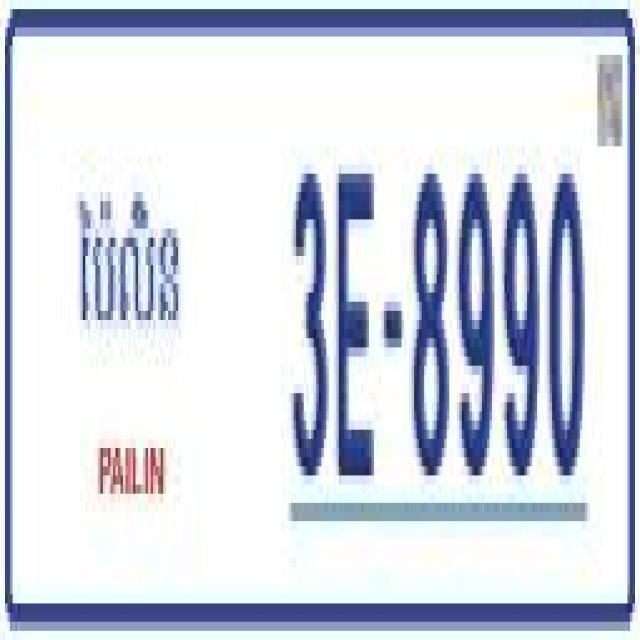Pailin: (76, 174, 183, 354)
